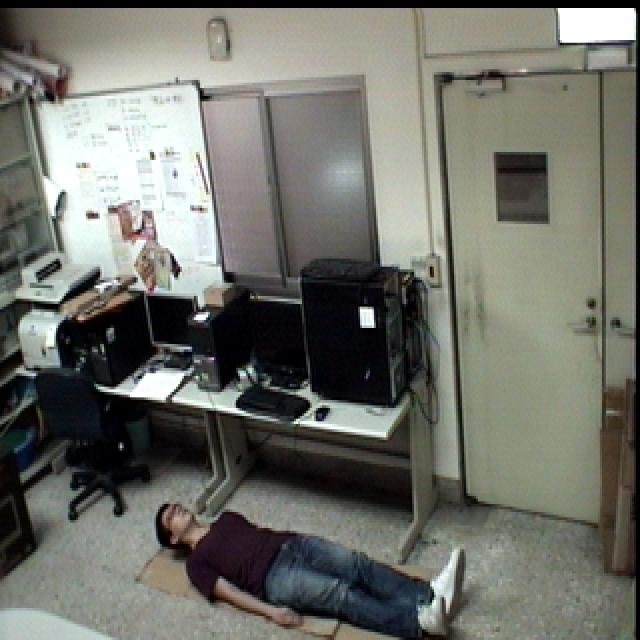lie: (152, 492, 473, 640)
